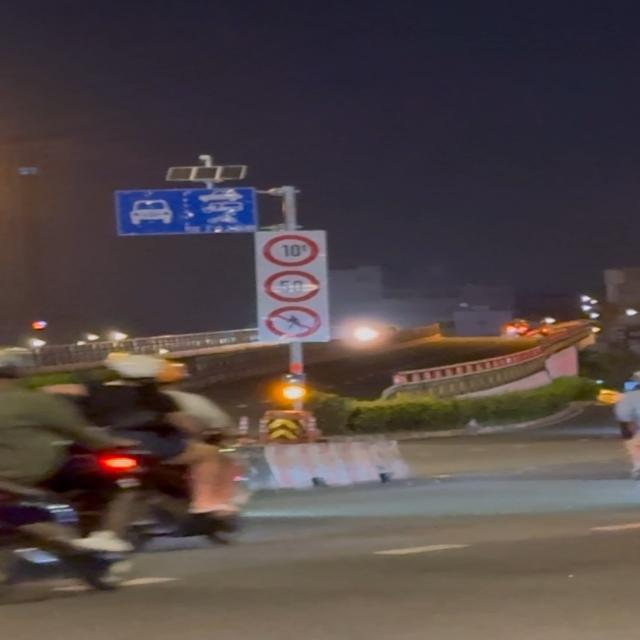Bien bao cam nguoi di bo: (263, 303, 326, 341)
Bien bao toc do toi da cho phep: (261, 270, 318, 300)
